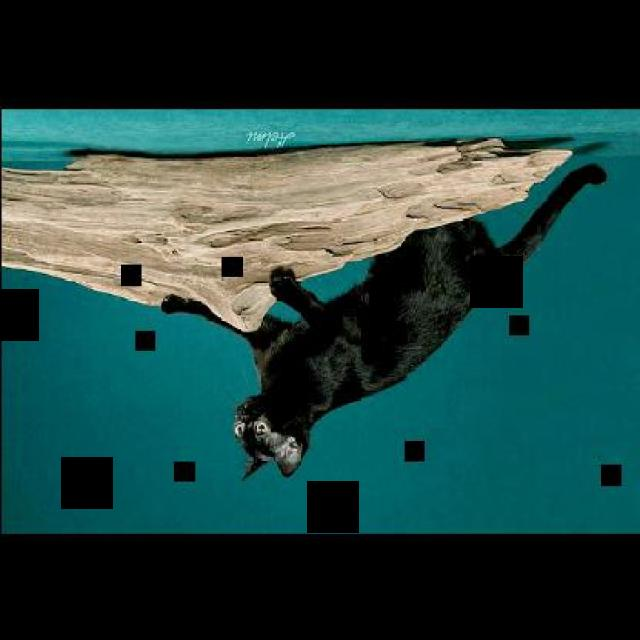unauthorized: (159, 160, 606, 478)
